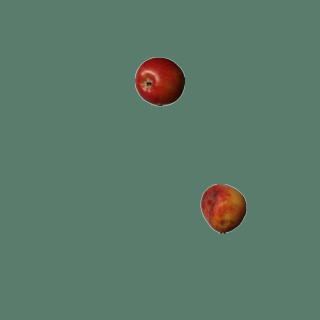Apple Braeburn: (134, 56, 184, 106)
Peach: (198, 183, 248, 233)
